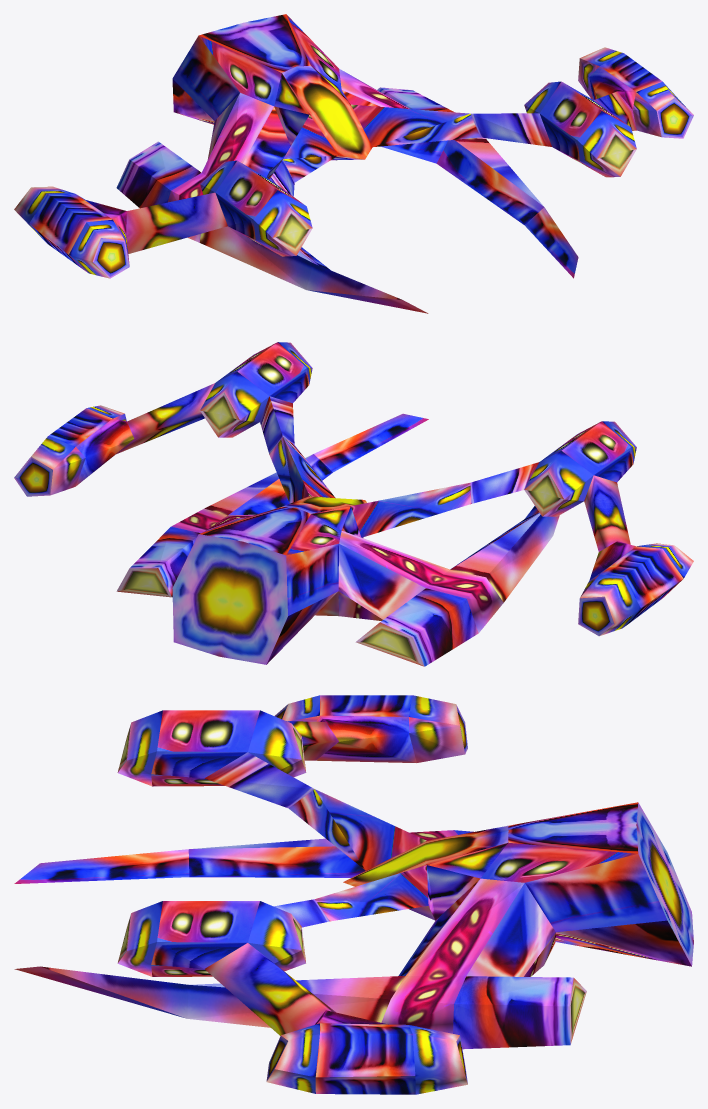
The model's file is ship-02.fbx.
3 renders of one model, top to bottom at view 1: azimuth 30°, elevation 25°; view 2: azimuth 150°, elevation 25°; view 3: azimuth 270°, elevation 25°, orthographic. The views are drawn at different scales.
Visible parts, largest first — view 1: ship-02; view 2: ship-02; view 3: ship-02.
Boxes of the visible parts, bbox=[...] form: ship-02: bbox=[14, 14, 693, 313]; ship-02: bbox=[14, 342, 693, 666]; ship-02: bbox=[14, 695, 693, 1094].
Bounding box in the file's own units: 145 × 28.08 × 115.
